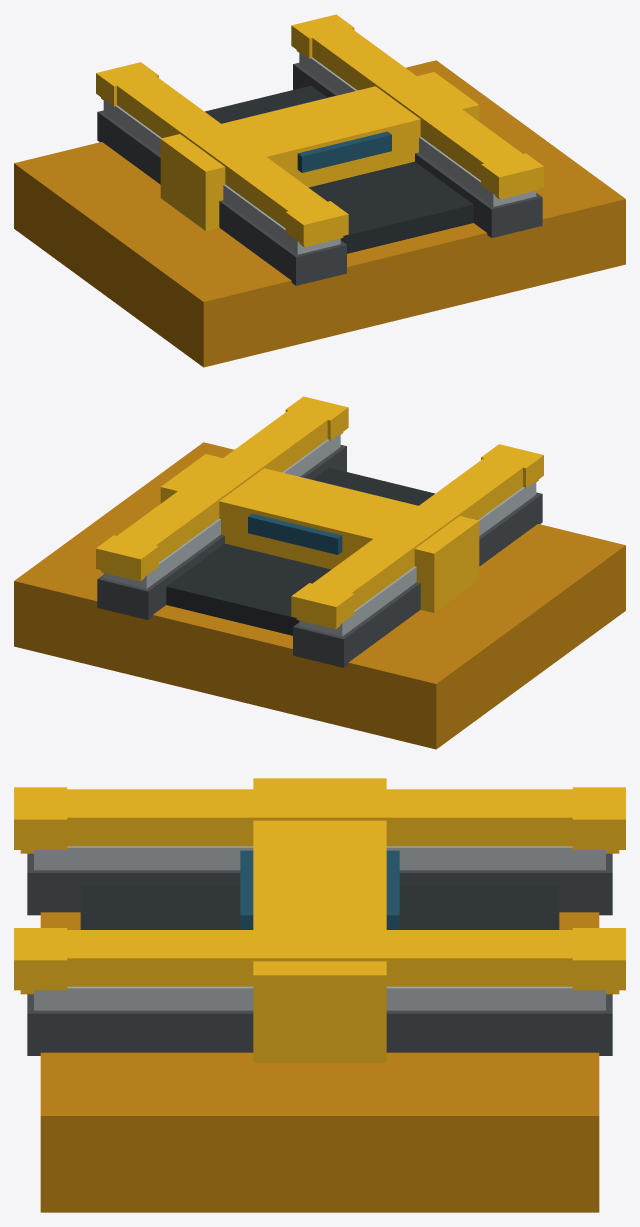
File: asrs_fork_table.glb
3 renders of one model, top to bottom at view 1: azimuth 30°, elevation 25°; view 2: azimuth 150°, elevation 25°; view 3: azimuth 270°, elevation 25°, orthographic. The views are drawn at different scales.
Parts seen in each view (by area): view 1: ForkCarrier, ForkMovingCrossbar, ForkCarrierCenter, ForkTine_R, ForkTine_L, ForkLowerRail_L, ForkLowerRail_R, ForkTelescopicStage_L, ForkTelescopicStage_R, ForkTip_Neg_L, ForkLoadSensorVisual, ForkTip_Neg_R (+2 smaller); view 2: ForkCarrier, ForkMovingCrossbar, ForkCarrierCenter, ForkTine_R, ForkTine_L, ForkLowerRail_L, ForkLowerRail_R, ForkTelescopicStage_L, ForkTelescopicStage_R, ForkLoadSensorVisual, ForkTip_Pos_L, ForkTip_Pos_R (+2 smaller); view 3: ForkCarrier, ForkMovingCrossbar, ForkTine_R, ForkTine_L, ForkLowerRail_R, ForkCarrierCenter, ForkTelescopicStage_R, ForkTelescopicStage_L, ForkLowerRail_L, ForkTip_Neg_L, ForkTip_Pos_L, ForkTip_Pos_R (+2 smaller).
Part boxes in pixels (x1=…): ForkCarrier: x1=14, y1=60, x2=625, y2=367; ForkMovingCrossbar: x1=160, y1=72, x2=479, y2=230; ForkCarrierCenter: x1=205, y1=85, x2=473, y2=253; ForkTine_R: x1=296, y1=17, x2=538, y2=199; ForkTine_L: x1=101, y1=64, x2=343, y2=247; ForkLowerRail_L: x1=97, y1=110, x2=346, y2=285; ForkLowerRail_R: x1=293, y1=63, x2=542, y2=237; ForkTelescopicStage_L: x1=103, y1=99, x2=340, y2=254; ForkTelescopicStage_R: x1=299, y1=52, x2=536, y2=206; ForkTip_Neg_L: x1=285, y1=201, x2=348, y2=245; ForkLoadSensorVisual: x1=248, y1=95, x2=391, y2=172; ForkTip_Neg_R: x1=481, y1=153, x2=543, y2=197; ForkCarrier: x1=14, y1=442, x2=625, y2=749; ForkMovingCrossbar: x1=160, y1=454, x2=479, y2=612; ForkCarrierCenter: x1=166, y1=467, x2=434, y2=635; ForkTine_R: x1=101, y1=399, x2=343, y2=581; ForkTine_L: x1=296, y1=446, x2=538, y2=629; ForkLowerRail_L: x1=293, y1=492, x2=542, y2=667; ForkLowerRail_R: x1=97, y1=445, x2=346, y2=619; ForkTelescopicStage_L: x1=299, y1=481, x2=536, y2=636; ForkTelescopicStage_R: x1=103, y1=434, x2=340, y2=588; ForkLoadSensorVisual: x1=248, y1=477, x2=391, y2=554; ForkTip_Pos_L: x1=291, y1=583, x2=354, y2=627; ForkTip_Pos_R: x1=96, y1=535, x2=158, y2=579; ForkCarrier: x1=40, y1=912, x2=599, y2=1212; ForkMovingCrossbar: x1=253, y1=778, x2=386, y2=1062; ForkTine_R: x1=20, y1=930, x2=619, y2=994; ForkTine_L: x1=20, y1=789, x2=619, y2=853; ForkLowerRail_R: x1=27, y1=994, x2=612, y2=1055; ForkCarrierCenter: x1=80, y1=885, x2=559, y2=929; ForkTelescopicStage_R: x1=34, y1=986, x2=605, y2=1010; ForkTelescopicStage_L: x1=34, y1=846, x2=605, y2=870; ForkLowerRail_L: x1=27, y1=853, x2=612, y2=915; ForkTip_Neg_L: x1=14, y1=787, x2=67, y2=849; ForkTip_Pos_L: x1=572, y1=787, x2=625, y2=849; ForkTip_Pos_R: x1=572, y1=928, x2=625, y2=990.
Size of the model in its own units: 1.08 by 0.31 by 0.92.
